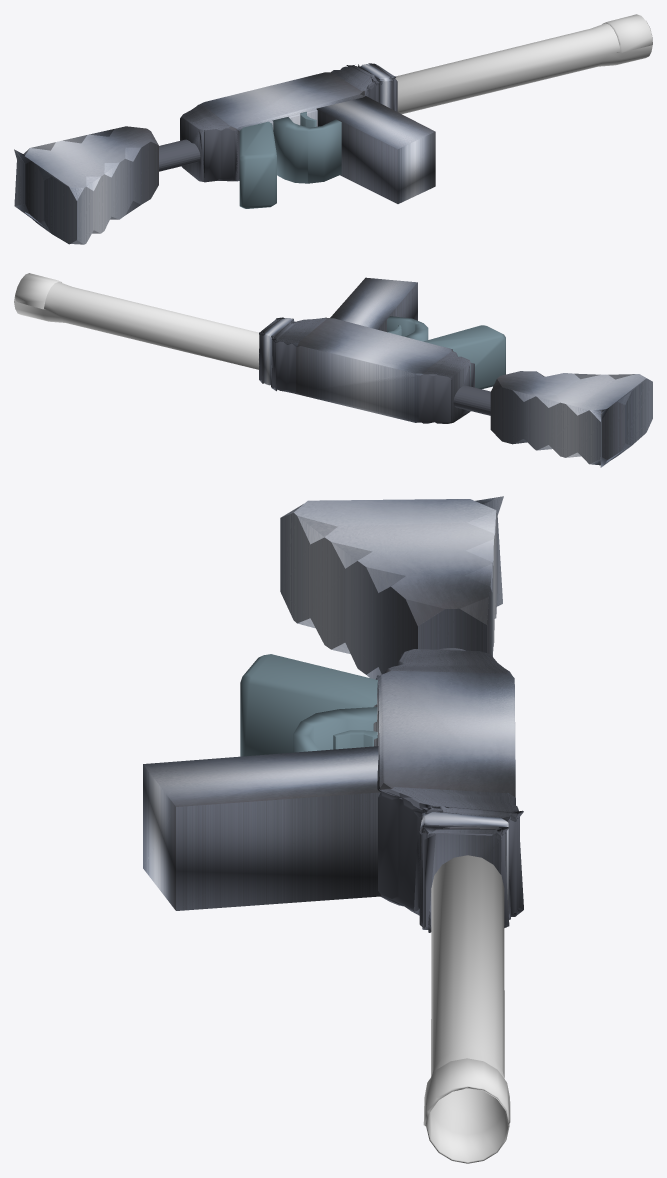
3 views of the same model, one above another, from view 1: azimuth 30°, elevation 25°; view 2: azimuth 150°, elevation 25°; view 3: azimuth 270°, elevation 25° (orthographic). The views are drawn at different scales.
Parts seen in each view (by area): view 1: STOCK, BARREL, MIDGUN, MAGAZINE, Plane, GRIP; view 2: MIDGUN, STOCK, BARREL, MAGAZINE, GRIP, Plane; view 3: MAGAZINE, STOCK, MIDGUN, BARREL, GRIP, Plane.
Part boxes in pixels (x1,y1,x2,y2): STOCK: (14,126,200,244); BARREL: (395,14,652,114); MIDGUN: (180,63,397,182); MAGAZINE: (316,96,435,203); Plane: (272,117,341,183); GRIP: (239,121,276,208); MIDGUN: (259,317,474,423); STOCK: (453,371,652,467); BARREL: (14,273,259,369); MAGAZINE: (330,277,417,331); GRIP: (423,325,505,389); Plane: (387,316,428,341); MAGAZINE: (143,746,380,910); STOCK: (280,496,503,679); MIDGUN: (373,649,523,932); BARREL: (423,855,510,1163); GRIP: (240,654,377,756); Plane: (293,707,377,752).
Size of the model in its own units: 490 by 47.77 by 138.
